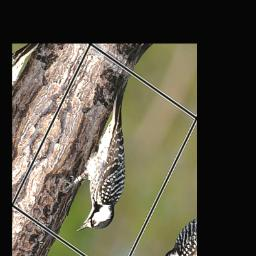Woodpecker: (46, 68, 168, 247)
